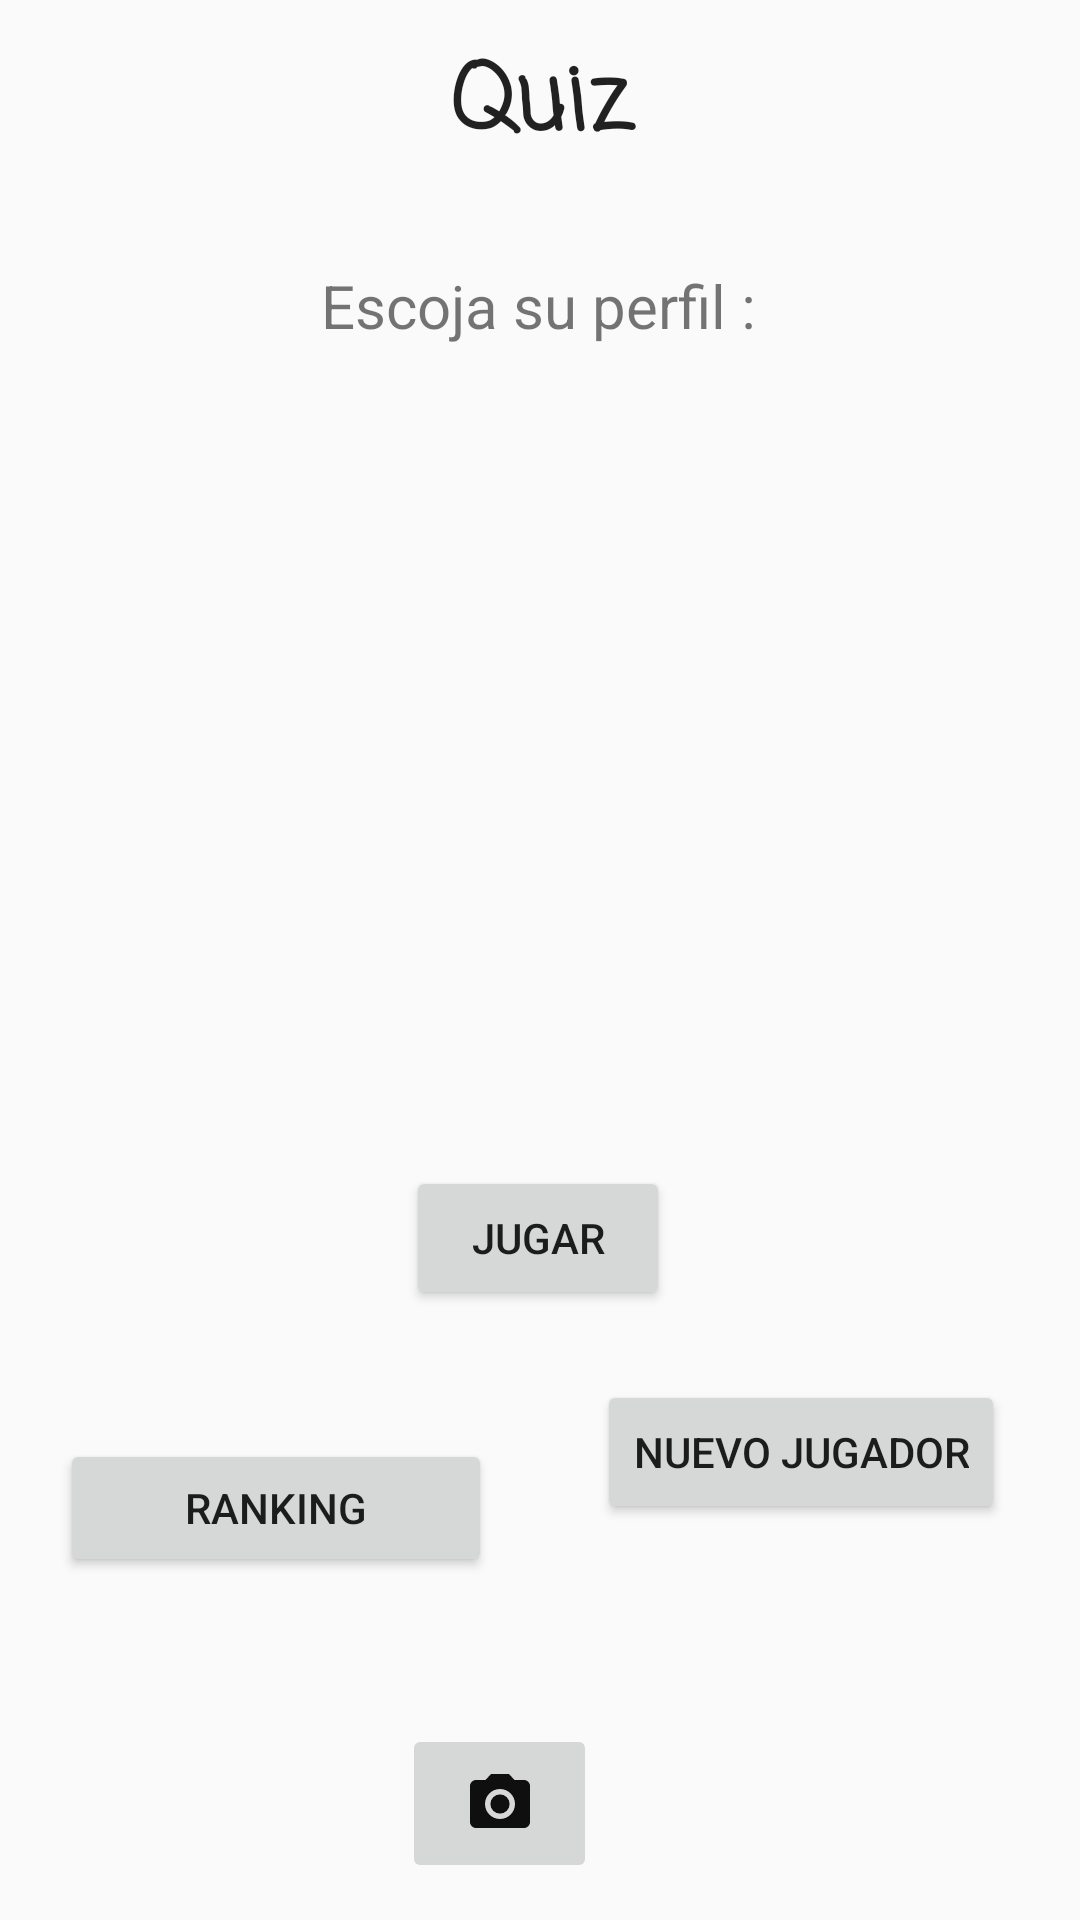

Where to tap for icons on this 1080w x 1920h app screen, as (x,y):
camera: (499,1803)
